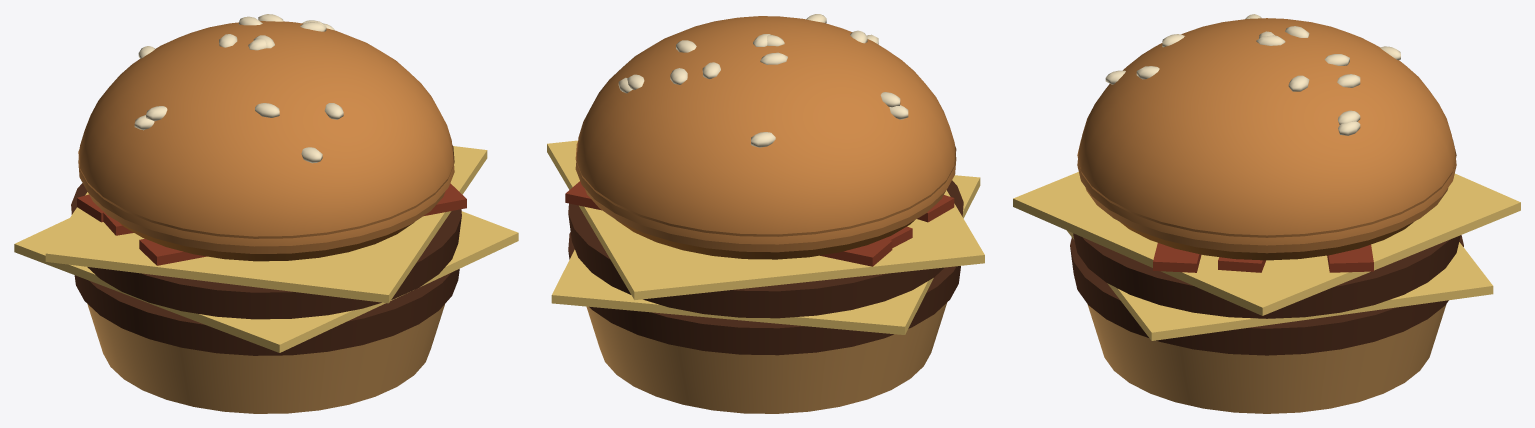
Rendered from burger-doble-gouda.glb.
3 views of the same model, side by side, from view 1: azimuth 30°, elevation 25°; view 2: azimuth 150°, elevation 25°; view 3: azimuth 270°, elevation 25° (orthographic).
Bounding box in the file's own units: 0.1885 × 0.126 × 0.1885.
